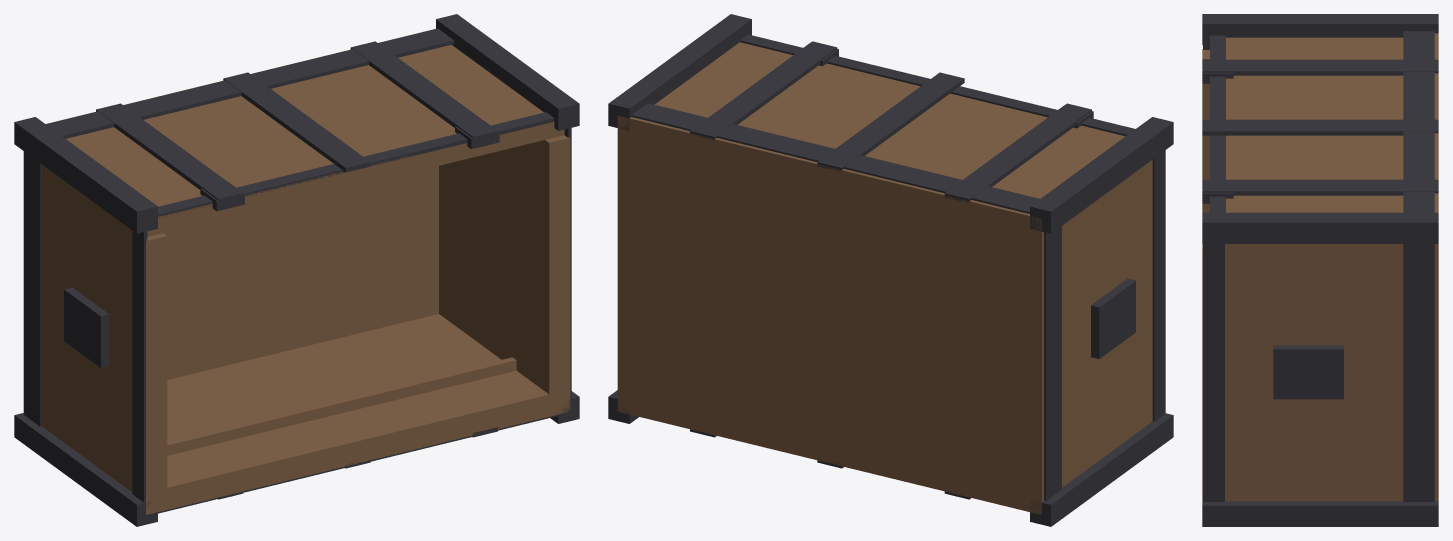
The model's file is chest_body.glb.
The picture shows the model from 3 angles, left to right: view 1: azimuth 30°, elevation 25°; view 2: azimuth 150°, elevation 25°; view 3: azimuth 270°, elevation 25°; orthographic projection. The views are drawn at different scales.
Parts seen in each view (by area): view 1: chest_body.001; view 2: chest_body.001; view 3: chest_body.001.
Boxes of the visible parts, left/top/right/bottom form: chest_body.001: left=14, top=14, right=579, bottom=526; chest_body.001: left=608, top=14, right=1173, bottom=526; chest_body.001: left=1202, top=14, right=1438, bottom=526.
Size of the model in its own units: 0.626 by 0.426 by 0.3.
